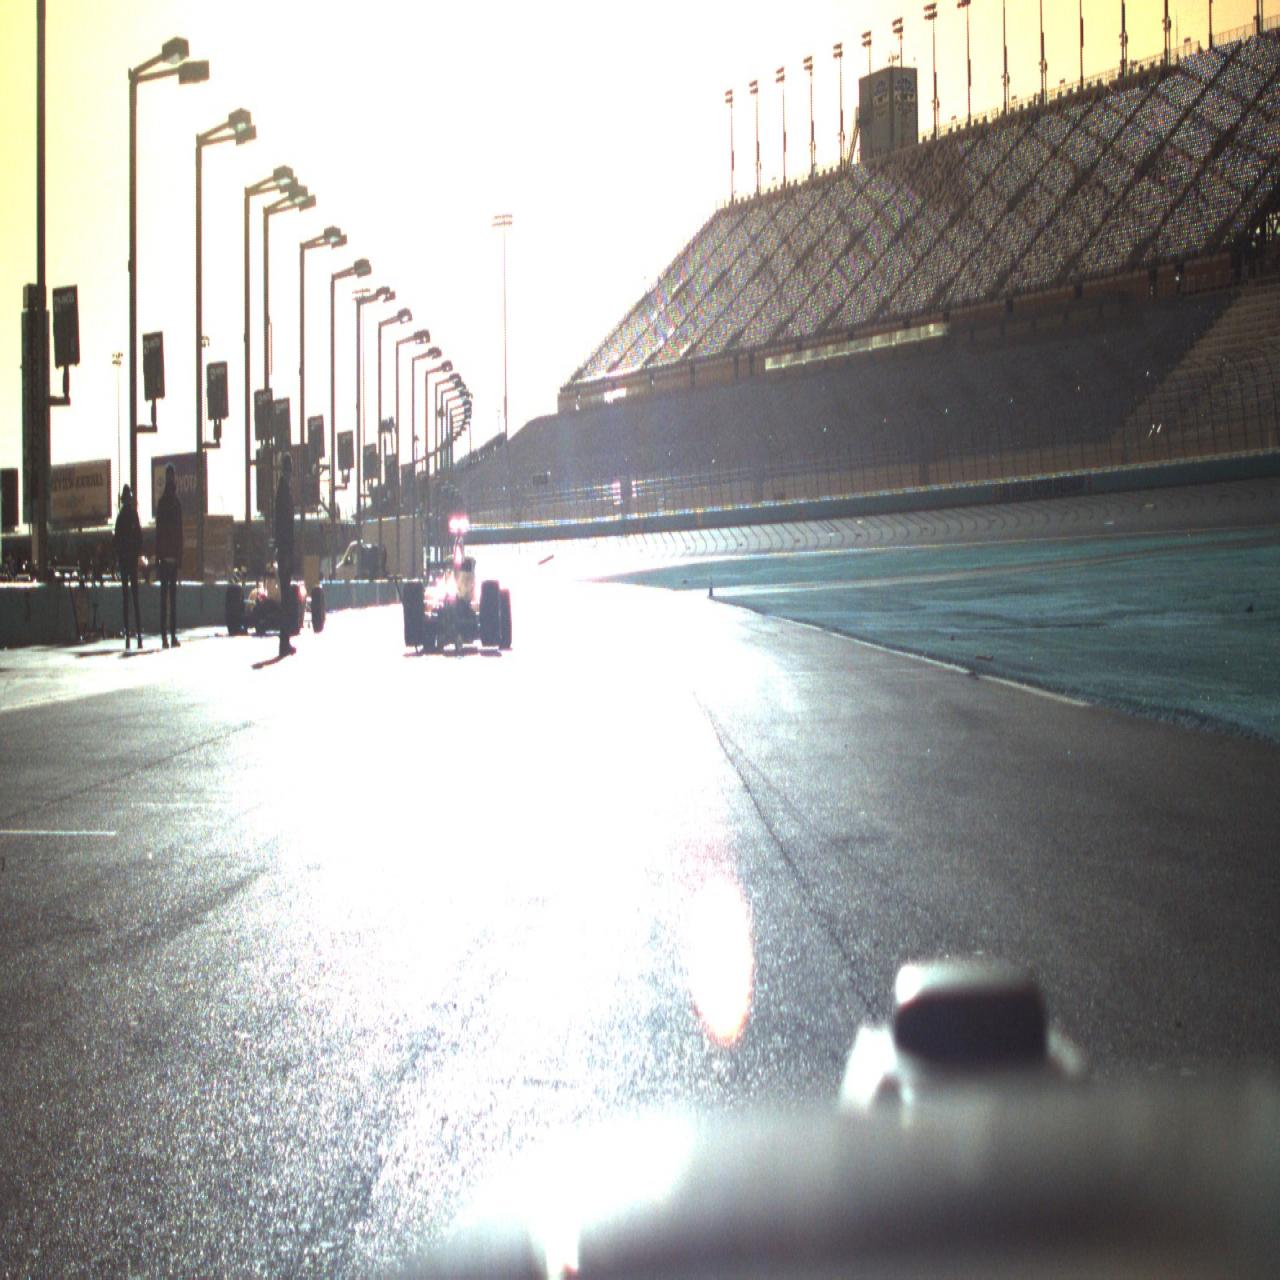AV: (403, 517, 513, 652), (225, 536, 325, 636)
Wheel: (479, 579, 502, 644), (404, 579, 424, 647), (225, 585, 245, 636), (497, 588, 512, 651), (287, 583, 301, 634), (312, 586, 325, 632)
